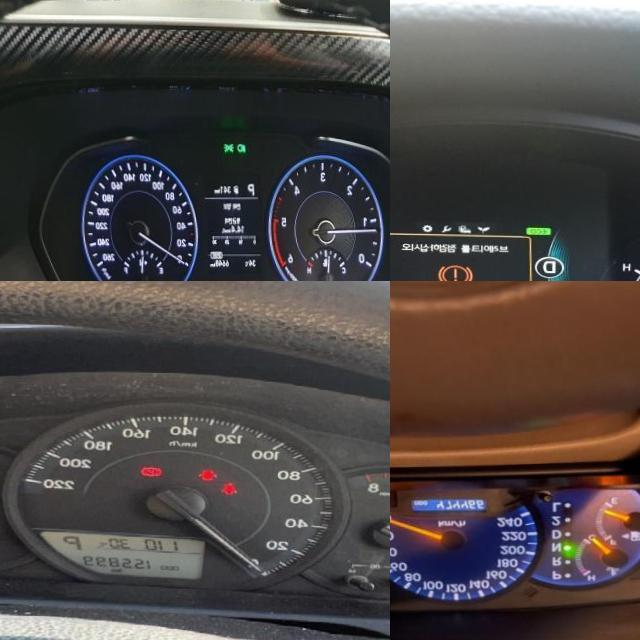Low beam: (236, 142, 245, 152)
Seat Belt: (219, 482, 235, 495)
SideLamp: (222, 142, 233, 152)
